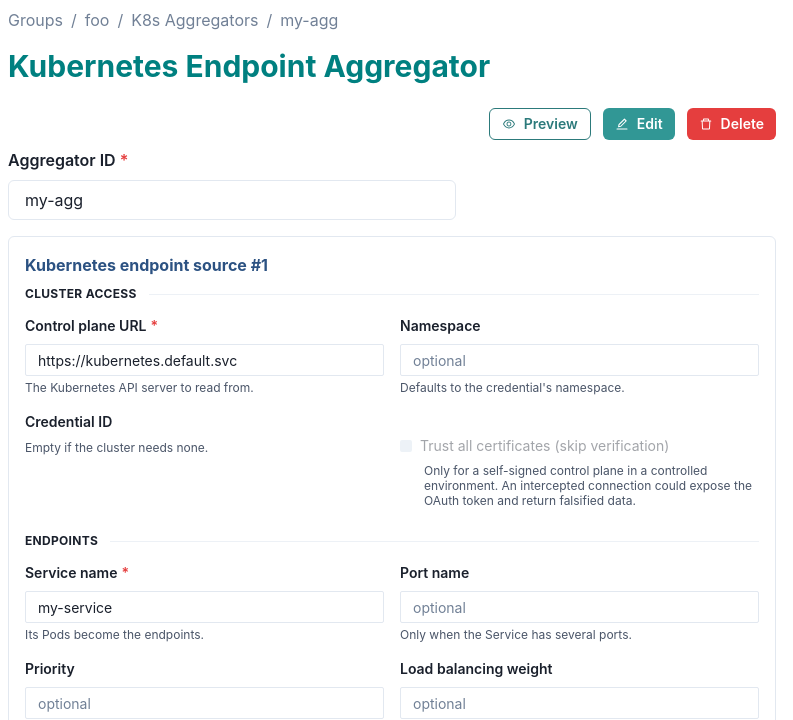
K8sAggregatorEditor – aggregator ID pattern validation › sticky action bar › moves Cancel into the bar and reveals the commit input + Save only while editing
expect the field showing "my-agg" is shown: met, box x1=8 y1=180 x2=456 y2=220
expect the button "save" is not shown: met
Click the button "Edit".
click(639, 124)  # box x1=603 y1=108 x2=675 y2=140
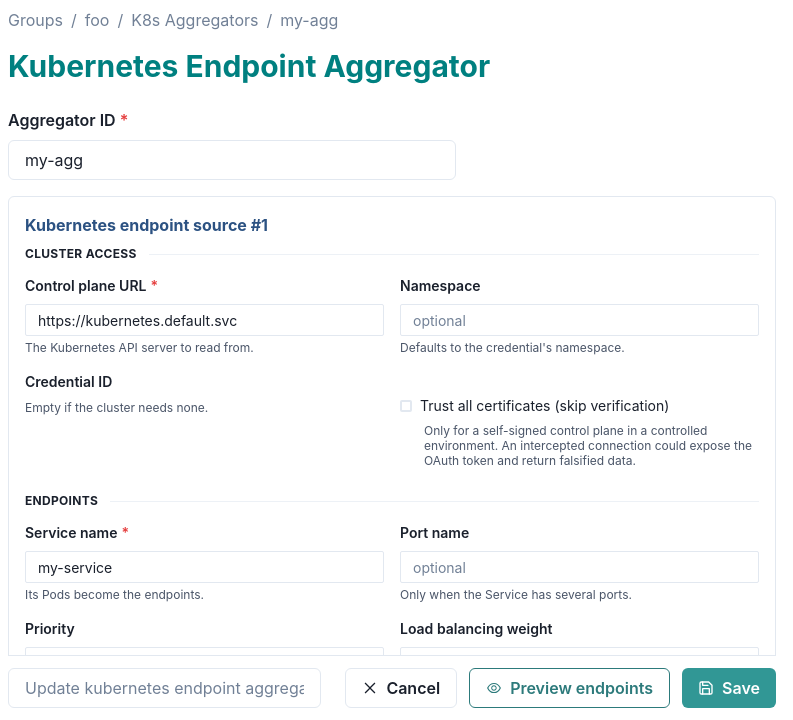
expect the field with placeholder "Update kubernetes endpoint aggregator: ..." is shown: met, box x1=8 y1=668 x2=321 y2=708
expect the button "Save" is shown: met, box x1=682 y1=668 x2=776 y2=708
expect the button "Cancel" is shown: met, box x1=345 y1=668 x2=457 y2=708
